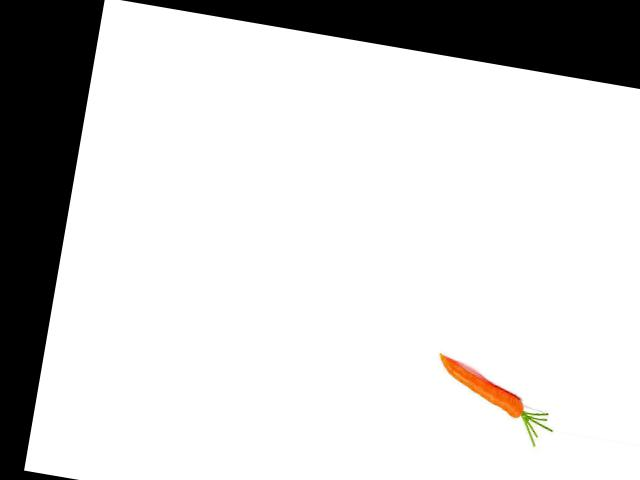carrot: (427, 352, 541, 428)
